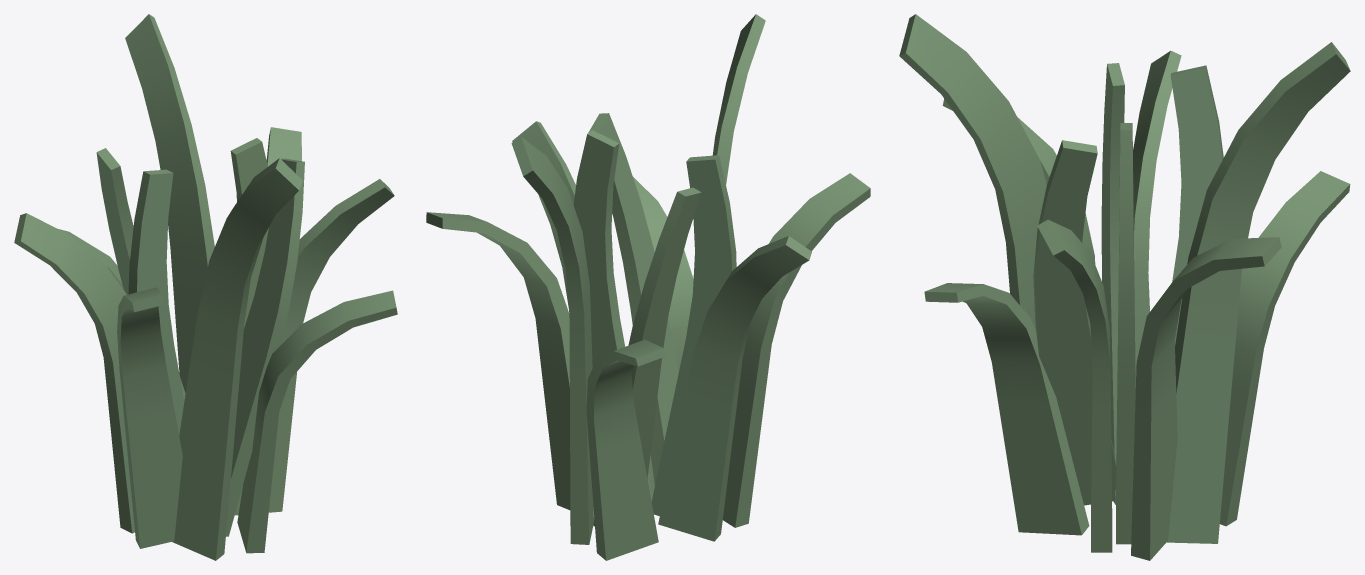
File: Grass_Patch_01.fbx
3 renders of one model, left to right at view 1: azimuth 30°, elevation 25°; view 2: azimuth 150°, elevation 25°; view 3: azimuth 270°, elevation 25°, orthographic. The views are drawn at different scales.
Visible parts, largest first — view 1: Grass_Patch_01; view 2: Grass_Patch_01; view 3: Grass_Patch_01.
Boxes of the visible parts, x1,y1,x2,y2 form: Grass_Patch_01: (14, 14, 397, 560); Grass_Patch_01: (426, 14, 870, 560); Grass_Patch_01: (899, 14, 1350, 560).
Bounding box in the file's own units: 6.48 × 8.08 × 6.59.
